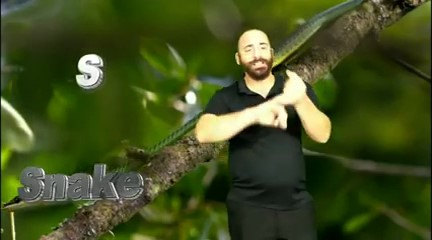S: (255, 69, 309, 130)
